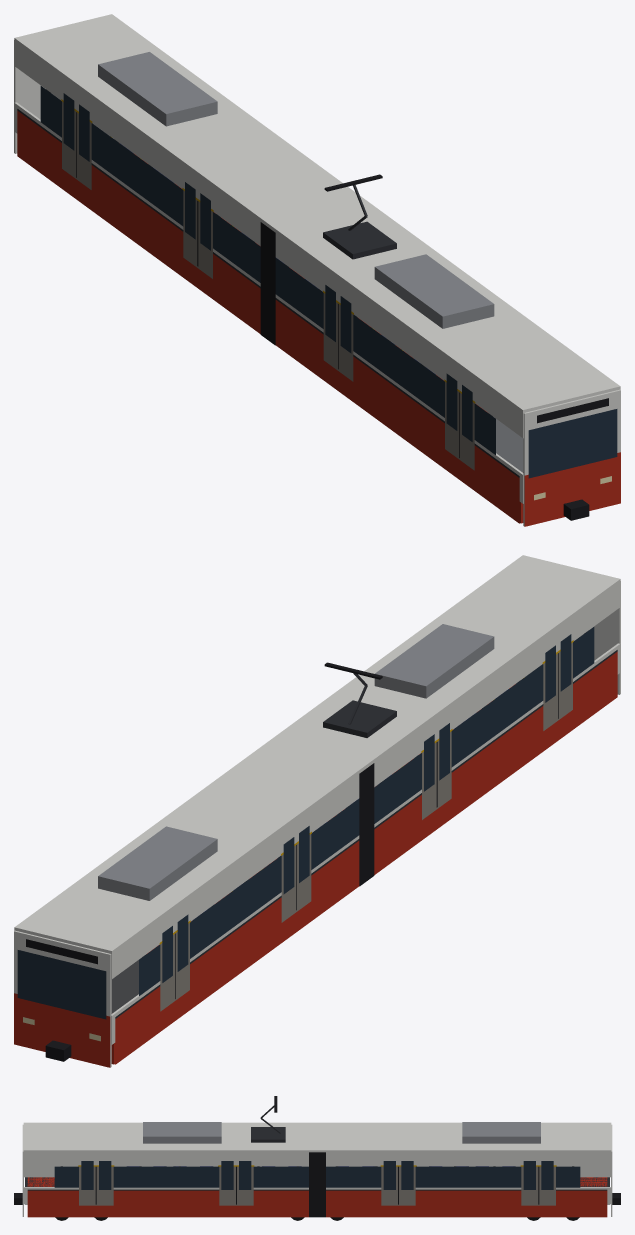
File: veh_ctrain-car.glb
3 renders of one model, top to bottom at view 1: azimuth 30°, elevation 25°; view 2: azimuth 150°, elevation 25°; view 3: azimuth 270°, elevation 25°, orthographic. The views are drawn at different scales.
Parts seen in each view (by area): view 1: body; view 2: body; view 3: body.
Boxes of the visible parts, box(x1,y1,x2,y2) form: body: box(14, 14, 620, 526); body: box(14, 555, 620, 1067); body: box(14, 1096, 620, 1220).
Size of the model in its own units: 2.68 by 4.9 by 24.7.
